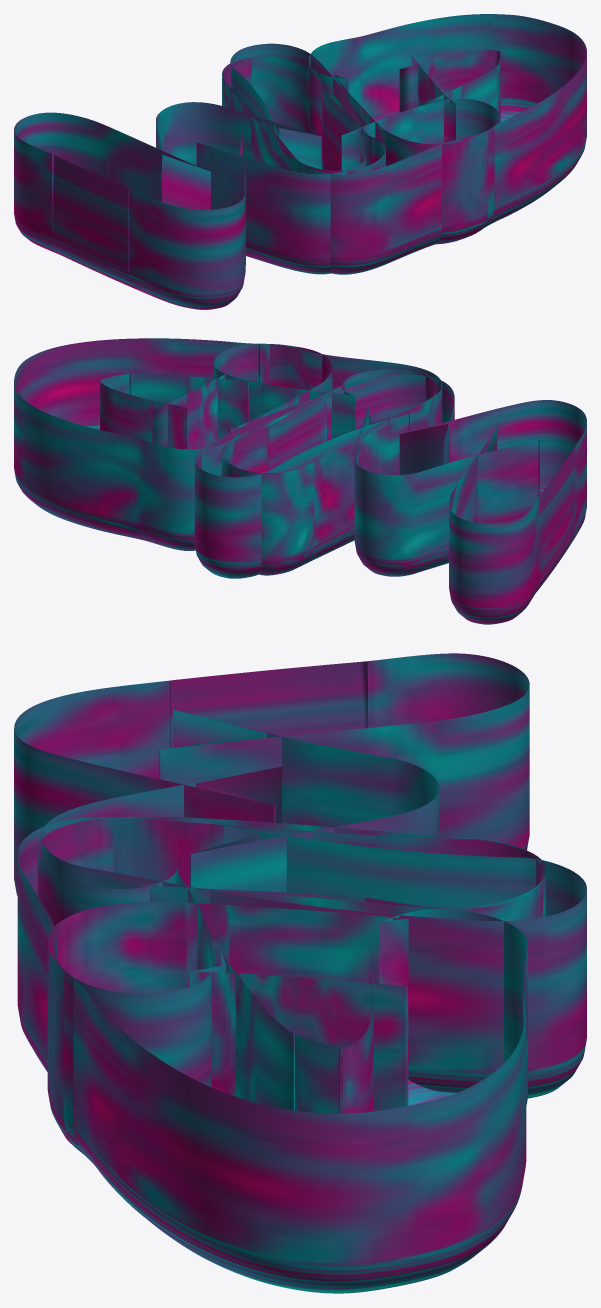
Rendered from wild.glb.
The picture shows the model from 3 angles, top to bottom: view 1: azimuth 30°, elevation 25°; view 2: azimuth 150°, elevation 25°; view 3: azimuth 270°, elevation 25°; orthographic projection. The views are drawn at different scales.
Parts seen in each view (by area): view 1: Text; view 2: Text; view 3: Text.
Boxes of the visible parts, x1,y1,x2,y2 form: Text: (14,14,586,309); Text: (14,338,586,624); Text: (14,653,586,1293).
Bounding box in the file's own units: 1.19 × 0.24 × 0.6285.
1 material, 1 textured.
